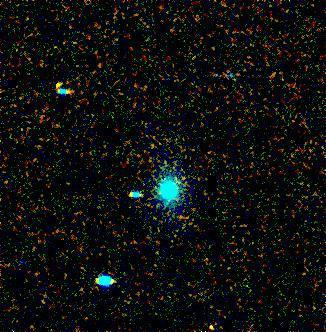star: (194, 307, 224, 332)
